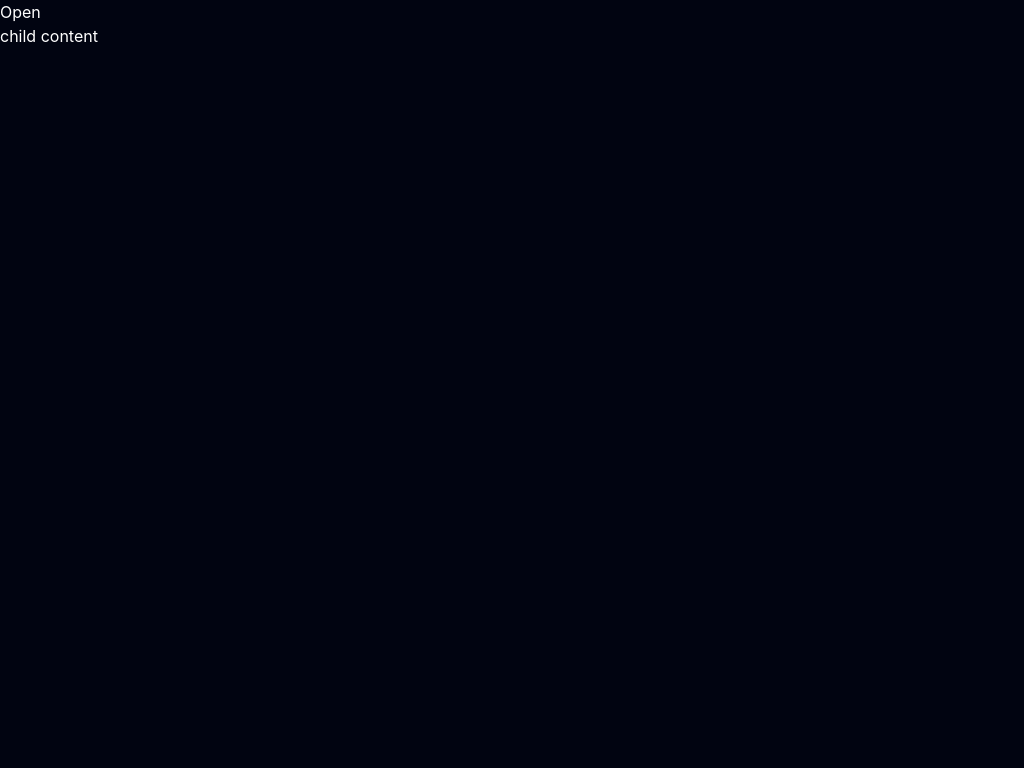
Test case: CommandPalette › search filtering › filters commands by label
Press k
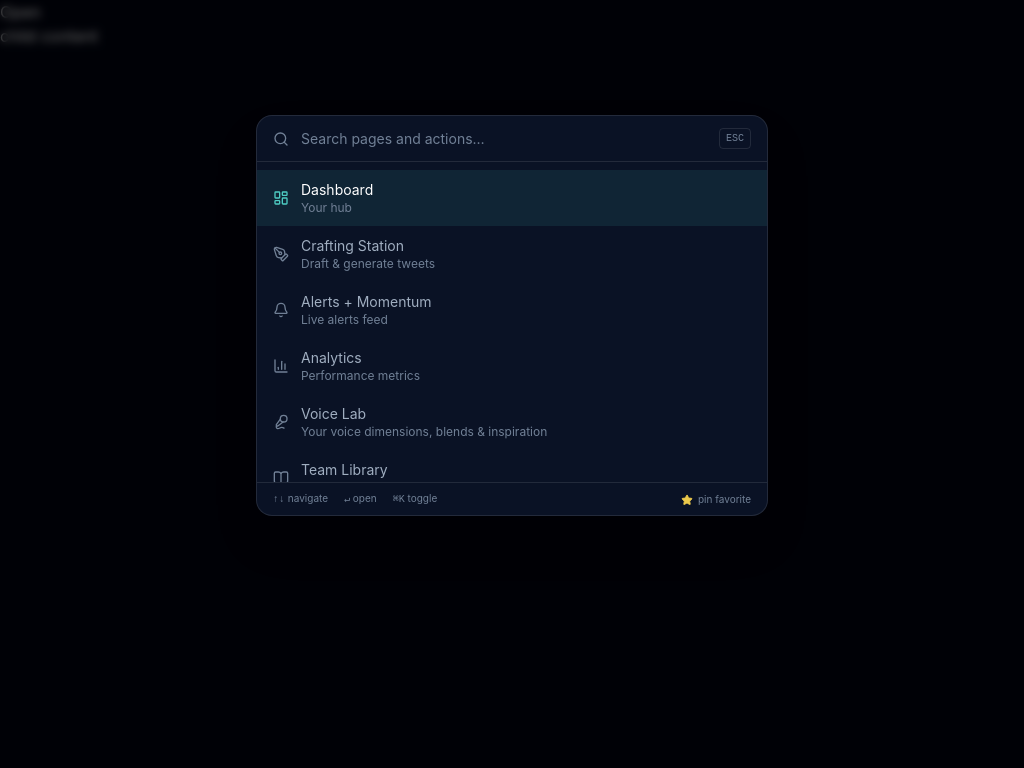
In the dropdown: [504, 139] box [301, 129, 707, 149], type "Dashboard"
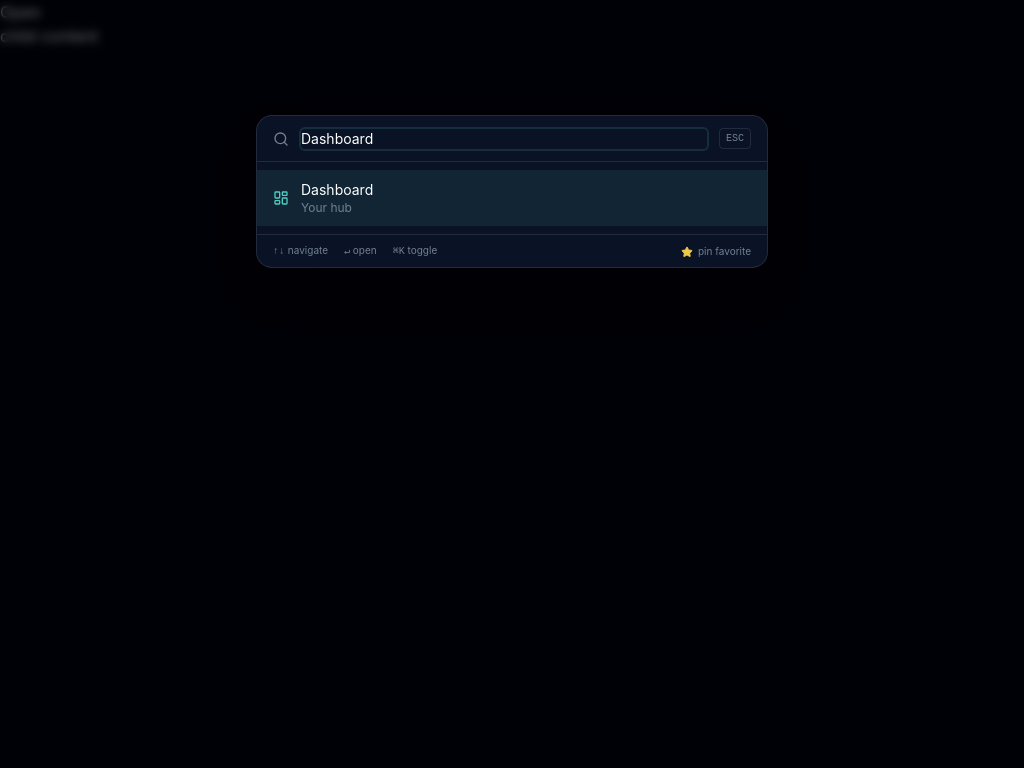
Check: the text "Dashboard" is shown, box [301, 181, 373, 198]
Check: the option "Crafting Station" is gone
